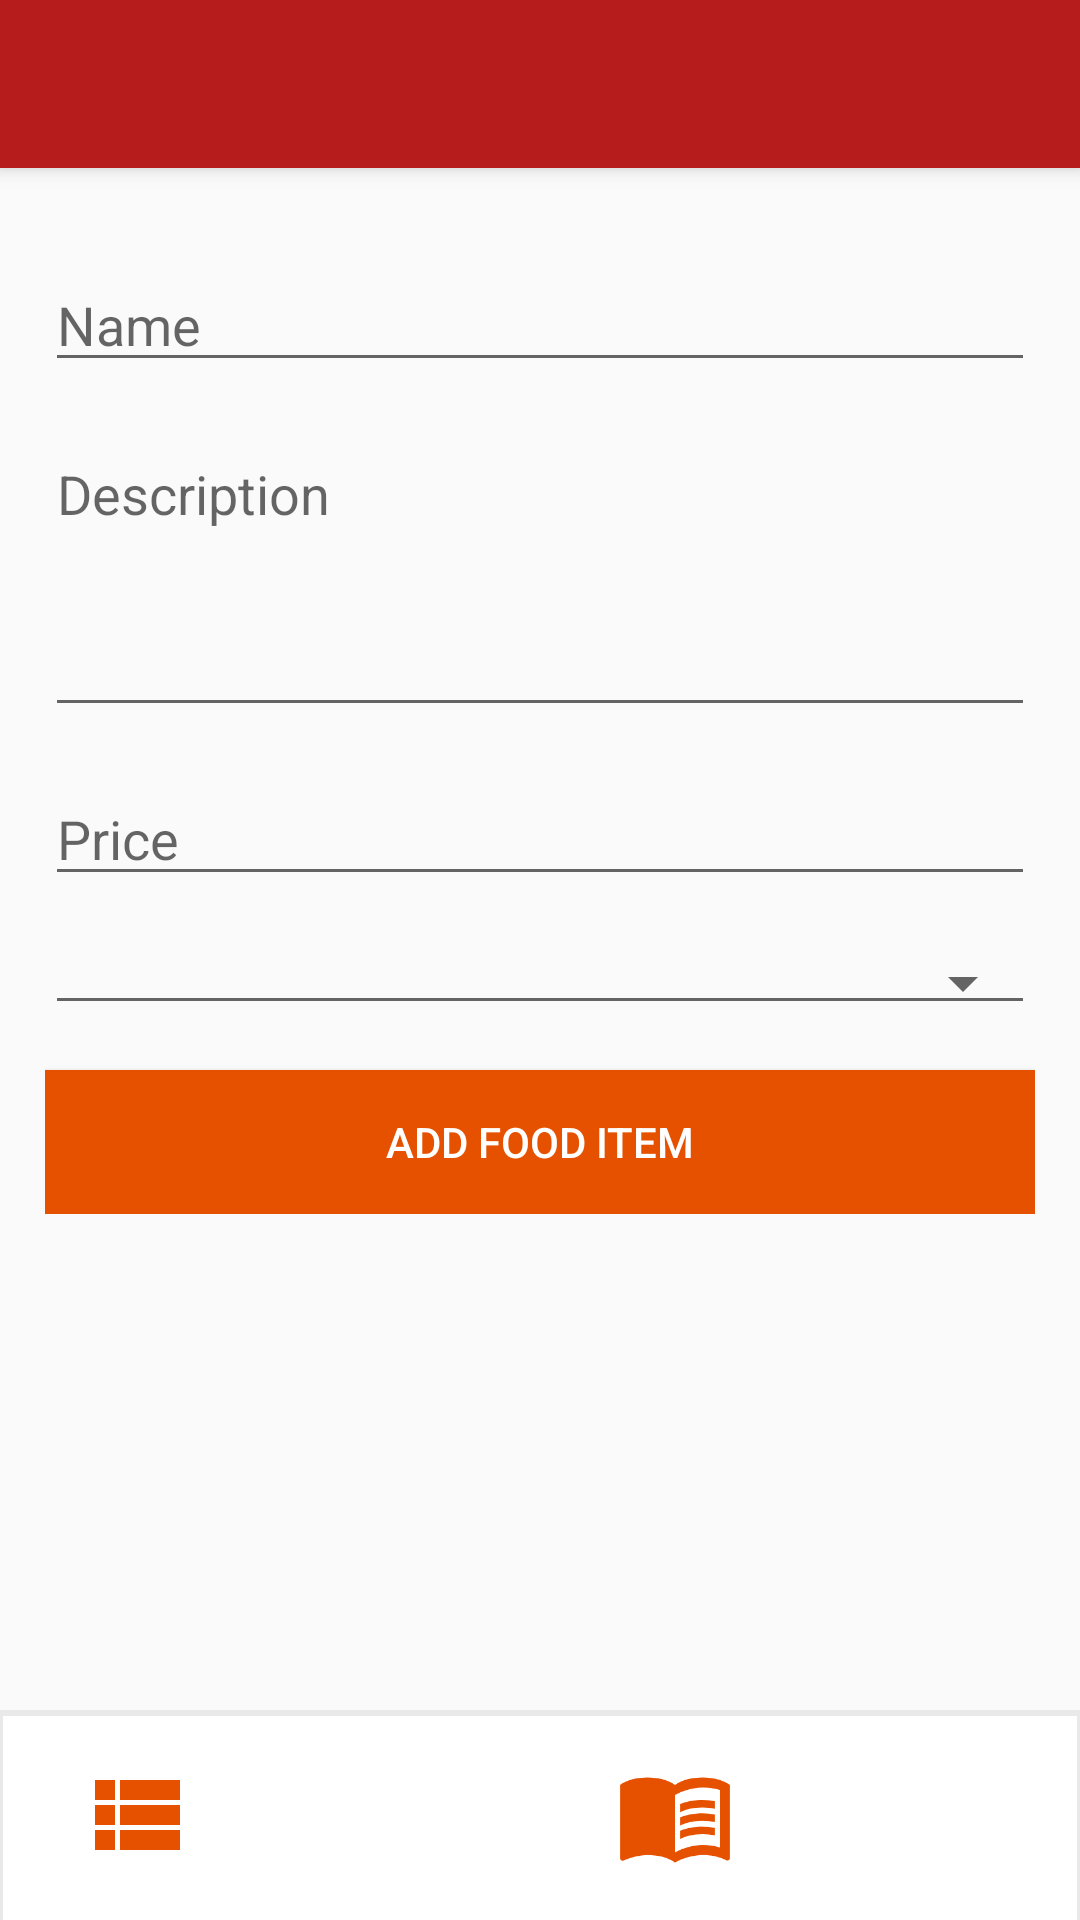

Icon click points for this 1080×1920 phone screenshot, format (x=x, y=y):
book: (x=675, y=1820)
view list: (x=137, y=1815)
